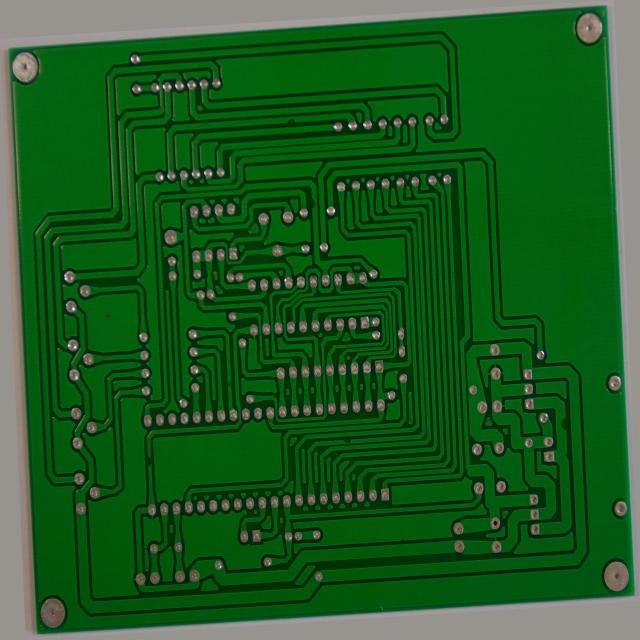mouse_bite: (289, 100, 307, 113), (564, 436, 573, 457), (313, 187, 323, 205), (131, 451, 140, 468), (336, 444, 350, 454)
